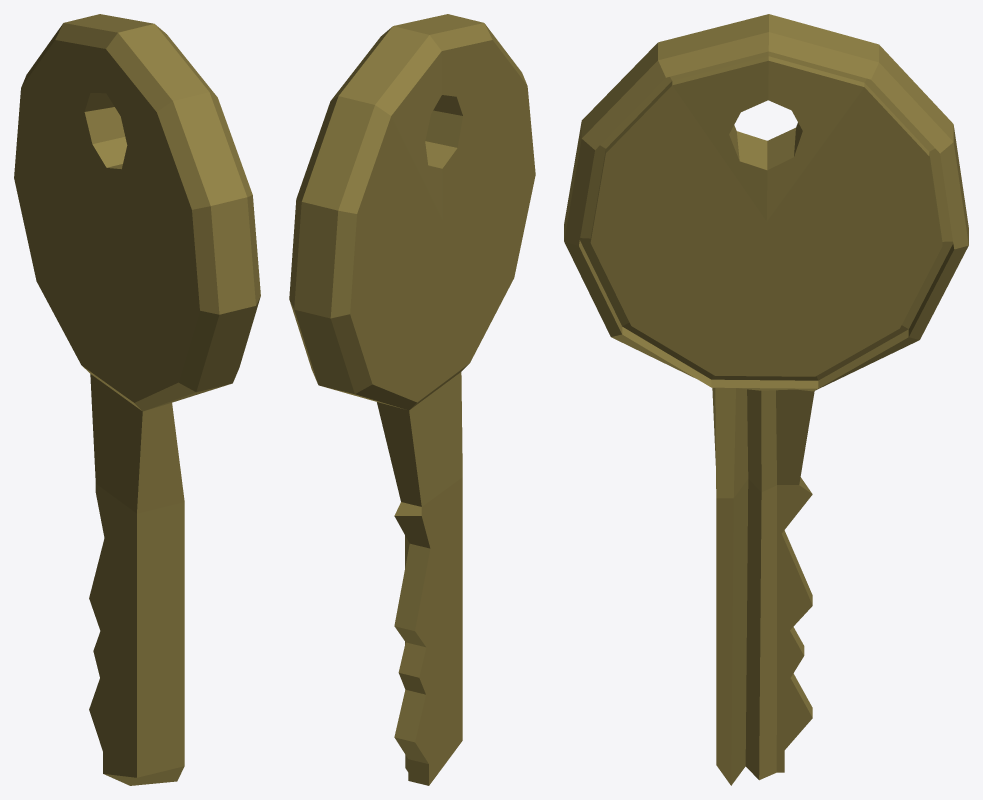
File: Key.fbx
The picture shows the model from 3 angles, left to right: view 1: azimuth 30°, elevation 25°; view 2: azimuth 150°, elevation 25°; view 3: azimuth 270°, elevation 25°; orthographic projection.
Parts seen in each view (by area): view 1: pCylinder2; view 2: pCylinder2; view 3: pCylinder2.
Boxes of the visible parts, box(x1,y1,x2,y2) form: pCylinder2: box(14, 14, 260, 785); pCylinder2: box(289, 14, 535, 785); pCylinder2: box(564, 14, 968, 785).
Size of the model in its own units: 0.3608 by 4.06 by 1.98.
